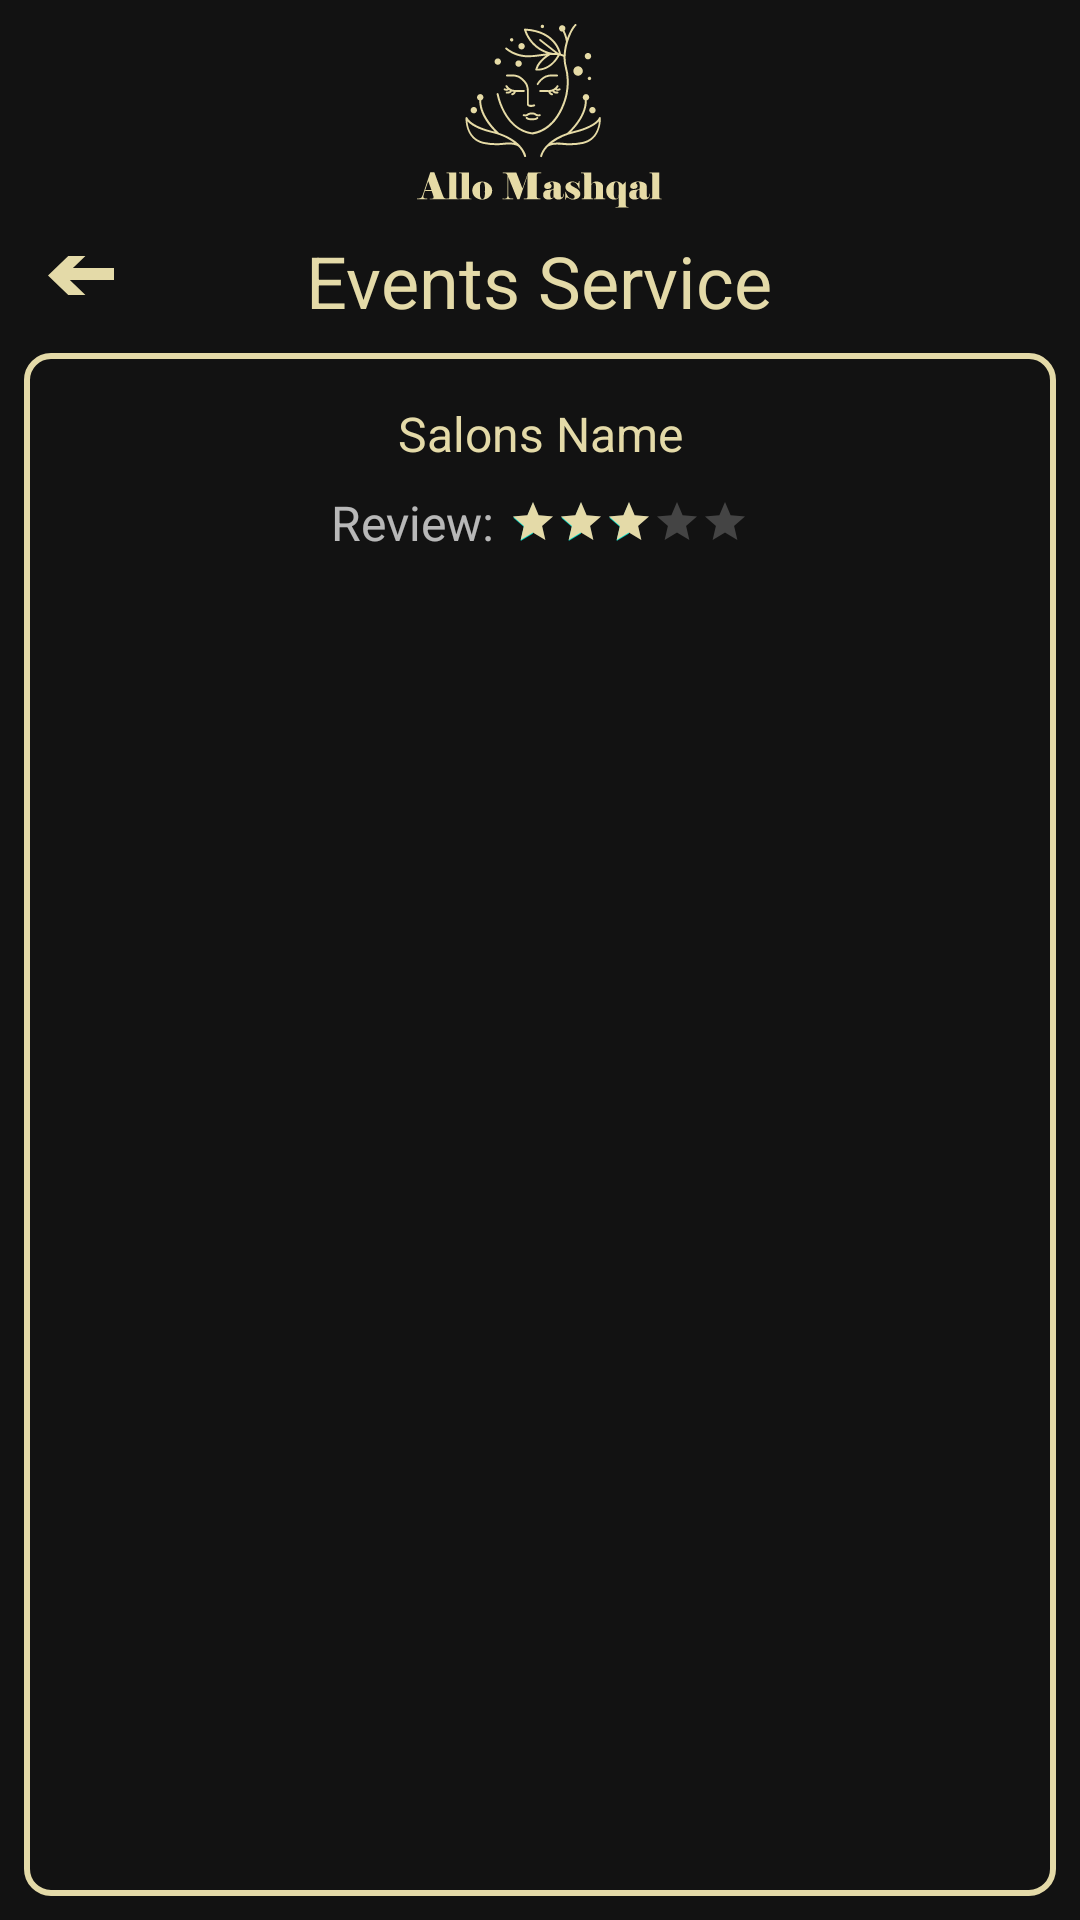

Screen size 1080px×1920px. Icon name, then its box in pixels as detection(x1, y1, x2, y2):
back: detection(48, 256, 114, 295)
